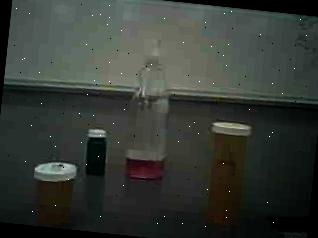Bottle A: (193, 111, 260, 238)
Bottle B: (25, 152, 85, 228)
Bottle C: (75, 123, 118, 184)
hazard: (117, 26, 187, 195)
